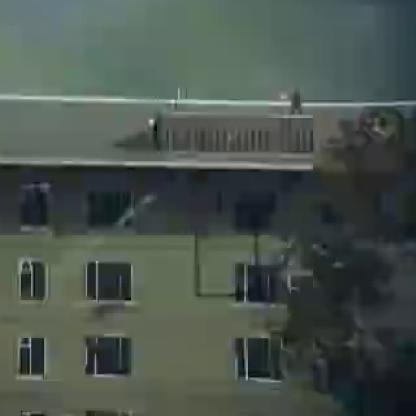enemy: (285, 86, 304, 116)
